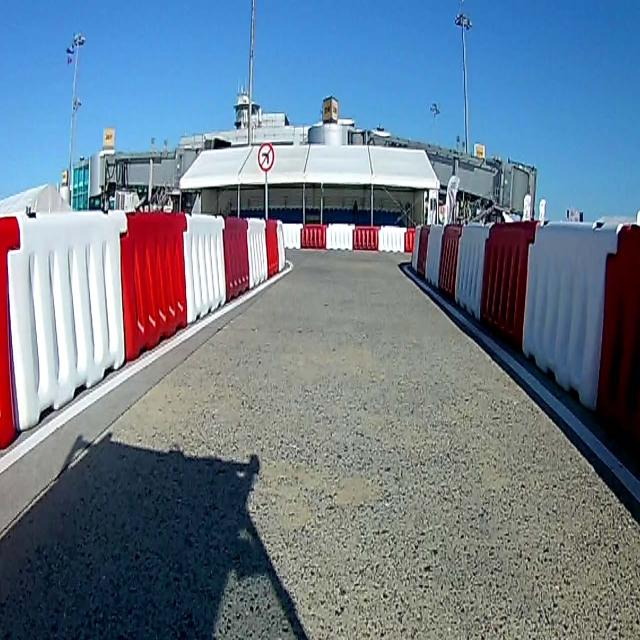soladonulmez: (258, 144, 274, 172)
